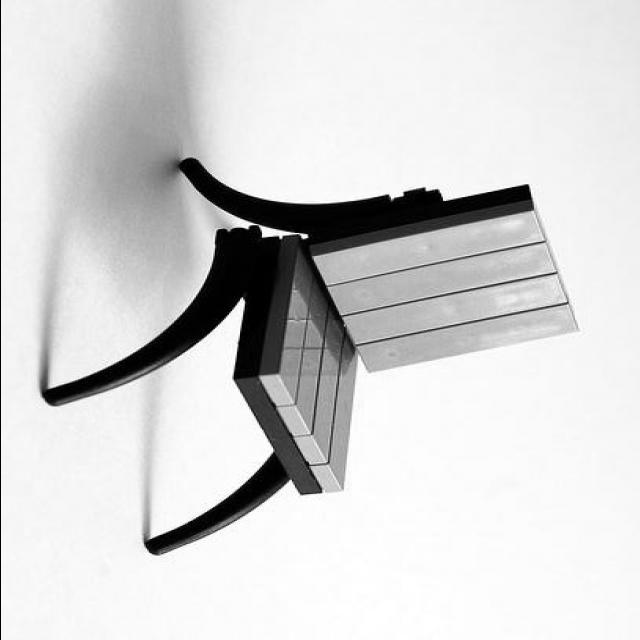chair: (39, 156, 579, 556)
